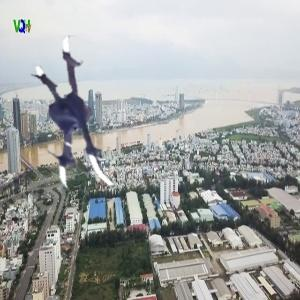drone: (10, 38, 166, 194)
